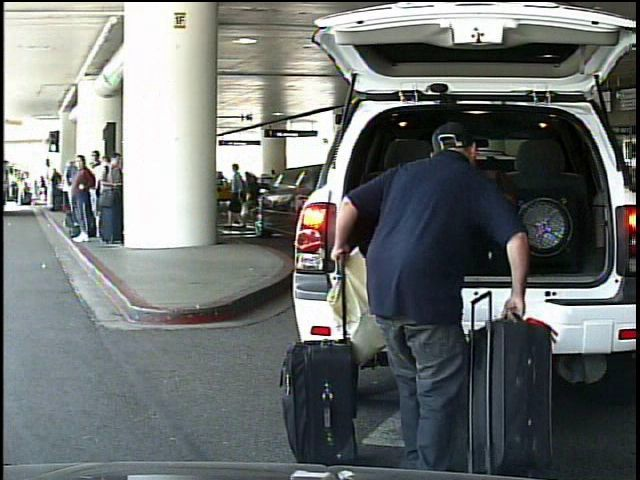person: (324, 116, 536, 462), (229, 162, 252, 239), (242, 164, 265, 231), (18, 176, 28, 207), (38, 174, 49, 202)
